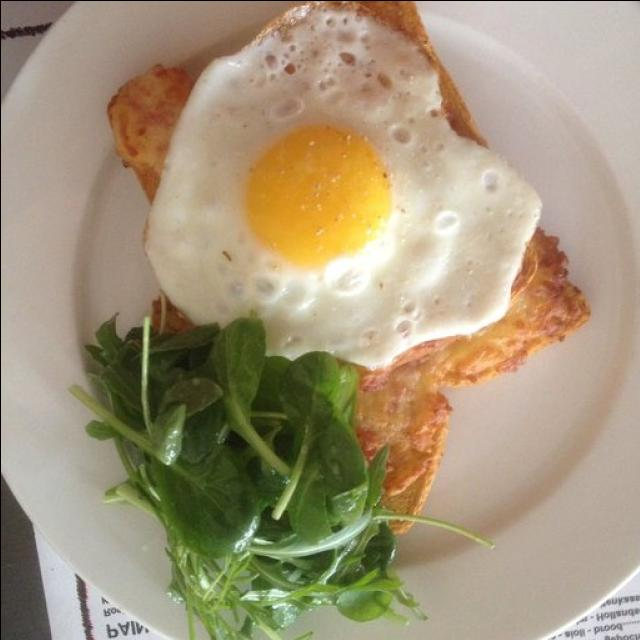telur ceplok: (141, 0, 541, 370)
